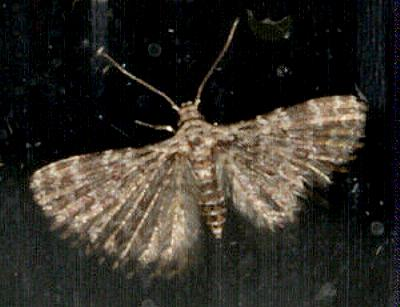Alucitidae: (28, 14, 368, 285)
moth: (30, 16, 370, 287)
